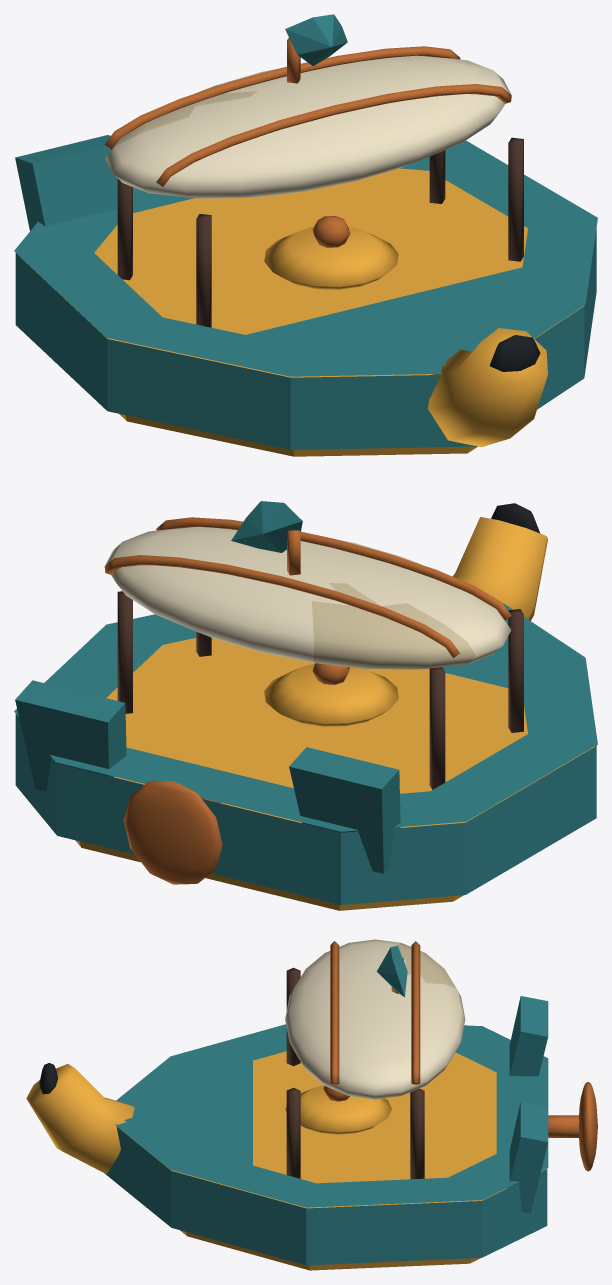
File: copperskiff.glb
3 views of the same model, one above another, from view 1: azimuth 30°, elevation 25°; view 2: azimuth 150°, elevation 25°; view 3: azimuth 270°, elevation 25° (orthographic). The views are drawn at different scales.
Parts seen in each view (by area): view 1: ME_20261020_copperskiff_copper_boat_belly.001, ME_20261020_copperskiff_canvas_lens_0.001, ME_20261020_copperskiff_team_coaming_wall.001, ME_20261020_copperskiff_team_top_coaming.001, ME_20261020_copperskiff_team_foredeck.001, ME_20261020_copperskiff_curved_bow_spout.001, ME_20261020_copperskiff_stern_board_-1.001, ME_20261020_copperskiff_kettle_lid.001, ME_20261020_copperskiff_copper_canvas_binding_0_0.001, ME_20261020_copperskiff_copper_canvas_binding_0_1.001, ME_20261020_copperskiff_team_leaf_pennant.001, ME_20261020_copperskiff_canvas_support_1_0.001 (+5 smaller); view 2: ME_20261020_copperskiff_copper_boat_belly.001, ME_20261020_copperskiff_team_coaming_wall.001, ME_20261020_copperskiff_canvas_lens_0.001, ME_20261020_copperskiff_team_top_coaming.001, ME_20261020_copperskiff_stern_board_-1.001, ME_20261020_copperskiff_stern_board_1.001, ME_20261020_copperskiff_pusher_disc.001, ME_20261020_copperskiff_curved_bow_spout.001, ME_20261020_copperskiff_kettle_lid.001, ME_20261020_copperskiff_copper_canvas_binding_0_1.001, ME_20261020_copperskiff_team_foredeck.001, ME_20261020_copperskiff_copper_canvas_binding_0_0.001 (+7 smaller); view 3: ME_20261020_copperskiff_team_coaming_wall.001, ME_20261020_copperskiff_copper_boat_belly.001, ME_20261020_copperskiff_canvas_lens_0.001, ME_20261020_copperskiff_team_top_coaming.001, ME_20261020_copperskiff_team_foredeck.001, ME_20261020_copperskiff_curved_bow_spout.001, ME_20261020_copperskiff_kettle_lid.001, ME_20261020_copperskiff_stern_board_1.001, ME_20261020_copperskiff_stern_board_-1.001, ME_20261020_copperskiff_copper_canvas_binding_0_0.001, ME_20261020_copperskiff_copper_canvas_binding_0_1.001, ME_20261020_copperskiff_pusher_disc.001 (+6 smaller).
Boxes of the visible parts, x1,y1,x2,y2 form: ME_20261020_copperskiff_copper_boat_belly.001: [21, 168, 583, 456]; ME_20261020_copperskiff_canvas_lens_0.001: [105, 55, 511, 198]; ME_20261020_copperskiff_team_coaming_wall.001: [15, 228, 596, 449]; ME_20261020_copperskiff_team_top_coaming.001: [14, 140, 597, 376]; ME_20261020_copperskiff_team_foredeck.001: [224, 261, 573, 369]; ME_20261020_copperskiff_curved_bow_spout.001: [428, 328, 547, 447]; ME_20261020_copperskiff_stern_board_-1.001: [15, 135, 117, 230]; ME_20261020_copperskiff_kettle_lid.001: [264, 227, 398, 289]; ME_20261020_copperskiff_copper_canvas_binding_0_0.001: [156, 84, 511, 187]; ME_20261020_copperskiff_copper_canvas_binding_0_1.001: [105, 46, 460, 149]; ME_20261020_copperskiff_team_leaf_pennant.001: [285, 14, 347, 65]; ME_20261020_copperskiff_canvas_support_1_0.001: [508, 137, 523, 261]; ME_20261020_copperskiff_copper_boat_belly.001: [75, 638, 594, 910]; ME_20261020_copperskiff_team_coaming_wall.001: [15, 714, 596, 904]; ME_20261020_copperskiff_canvas_lens_0.001: [105, 526, 511, 669]; ME_20261020_copperskiff_team_top_coaming.001: [14, 603, 597, 831]; ME_20261020_copperskiff_stern_board_-1.001: [289, 747, 400, 873]; ME_20261020_copperskiff_stern_board_1.001: [15, 680, 126, 791]; ME_20261020_copperskiff_pusher_disc.001: [123, 781, 222, 884]; ME_20261020_copperskiff_curved_bow_spout.001: [452, 517, 547, 620]; ME_20261020_copperskiff_kettle_lid.001: [264, 664, 398, 726]; ME_20261020_copperskiff_copper_canvas_binding_0_1.001: [104, 555, 460, 658]; ME_20261020_copperskiff_team_foredeck.001: [429, 618, 573, 697]; ME_20261020_copperskiff_copper_canvas_binding_0_0.001: [156, 517, 511, 620]; ME_20261020_copperskiff_team_coaming_wall.001: [104, 1126, 547, 1265]; ME_20261020_copperskiff_copper_boat_belly.001: [128, 1051, 547, 1270]; ME_20261020_copperskiff_canvas_lens_0.001: [285, 939, 465, 1099]; ME_20261020_copperskiff_team_top_coaming.001: [115, 1024, 548, 1207]; ME_20261020_copperskiff_team_foredeck.001: [124, 1049, 252, 1173]; ME_20261020_copperskiff_curved_bow_spout.001: [26, 1064, 134, 1173]; ME_20261020_copperskiff_kettle_lid.001: [285, 1085, 391, 1134]; ME_20261020_copperskiff_stern_board_1.001: [507, 1101, 548, 1213]; ME_20261020_copperskiff_stern_board_-1.001: [509, 996, 548, 1076]; ME_20261020_copperskiff_copper_canvas_binding_0_0.001: [330, 941, 339, 1084]; ME_20261020_copperskiff_copper_canvas_binding_0_1.001: [411, 941, 420, 1084]; ME_20261020_copperskiff_pusher_disc.001: [579, 1082, 597, 1171].
Bounding box in the file's own units: 1.59 × 1.04 × 2.07.
